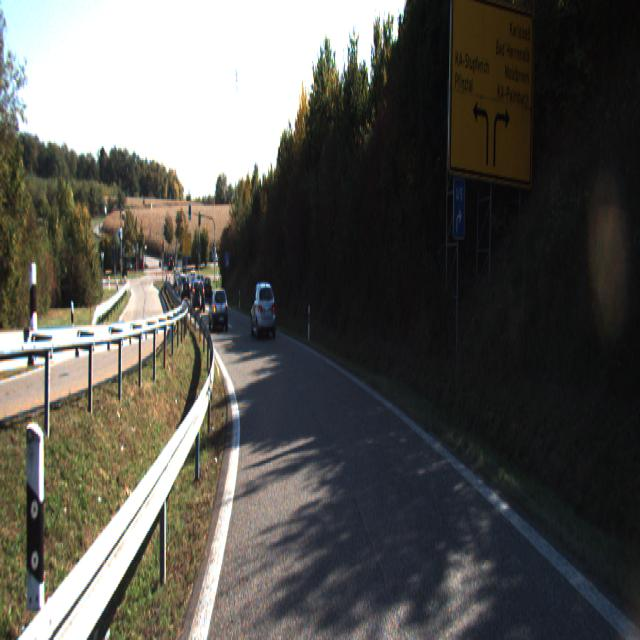Car: (250, 278, 276, 336), (208, 287, 228, 331), (191, 277, 206, 310)
